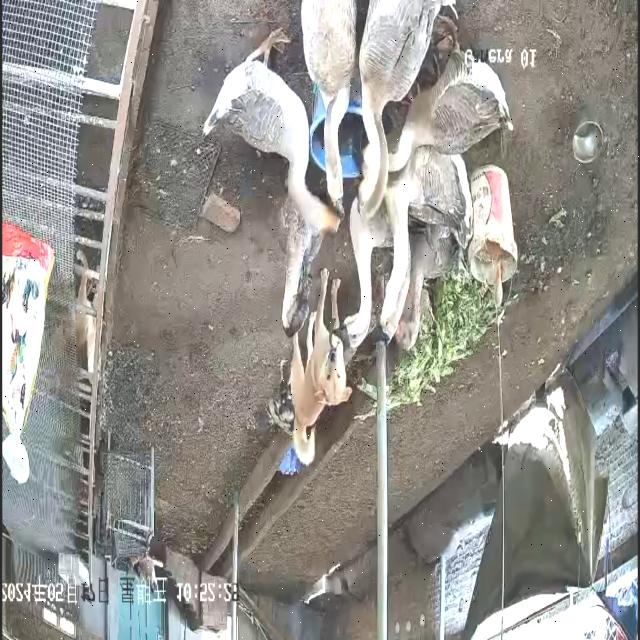dog: (290, 268, 354, 468)
